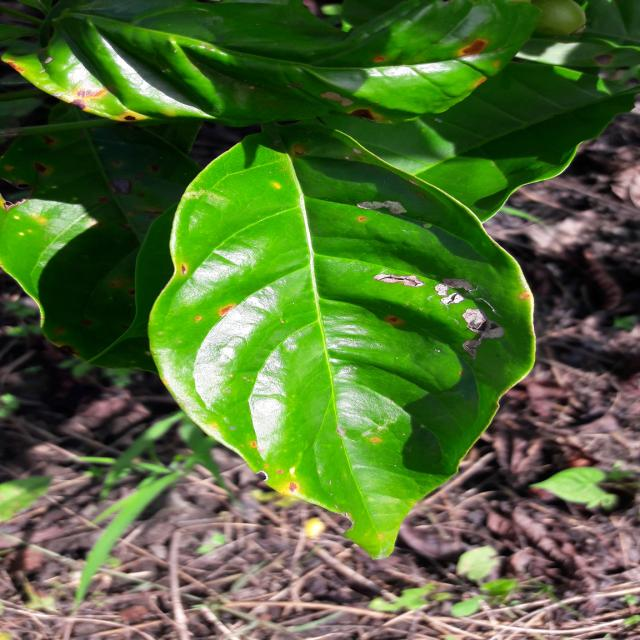Plaga-AranaRoja: (144, 141, 537, 561)
